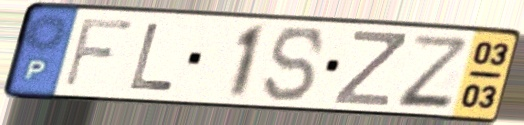1: (229, 20, 274, 103)
F: (60, 15, 138, 91)
L: (125, 20, 178, 94)
S: (260, 24, 328, 104)
Z: (330, 28, 410, 109), (394, 31, 470, 109)
